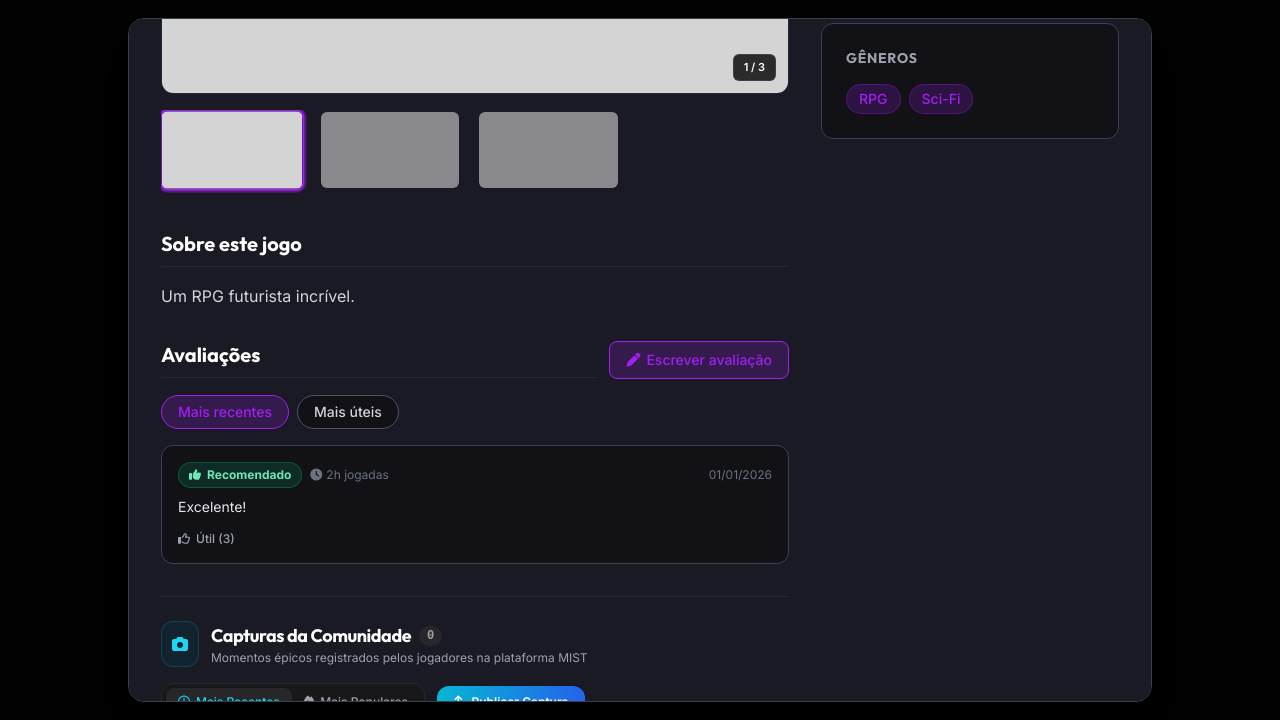
GameDetailModal Component › deve exibir a aprovação calculada e permitir abrir o formulário de avaliação quando o usuário possui o jogo
(page scrolled)
Click the button "Escrever avaliação".
click(699, 360)  # box [609, 341, 789, 379]
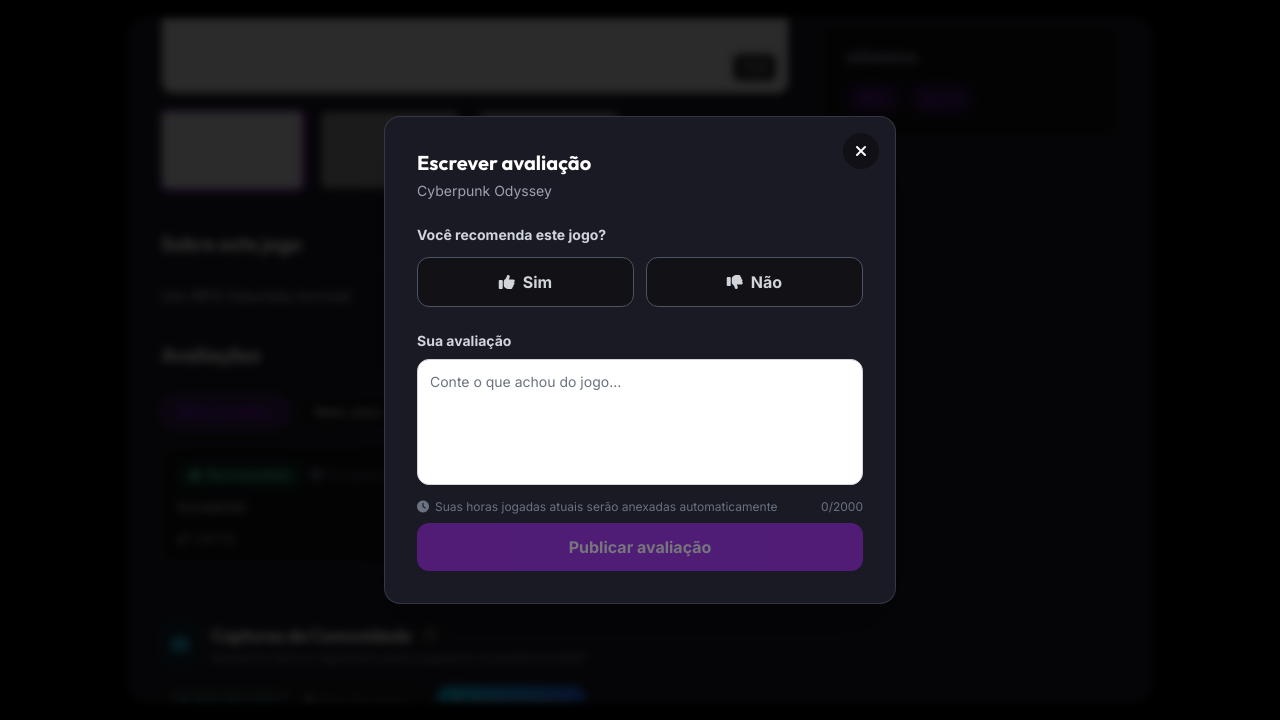
expect the text "Você recomenda este jogo?" is shown: met, box [417, 226, 606, 243]
